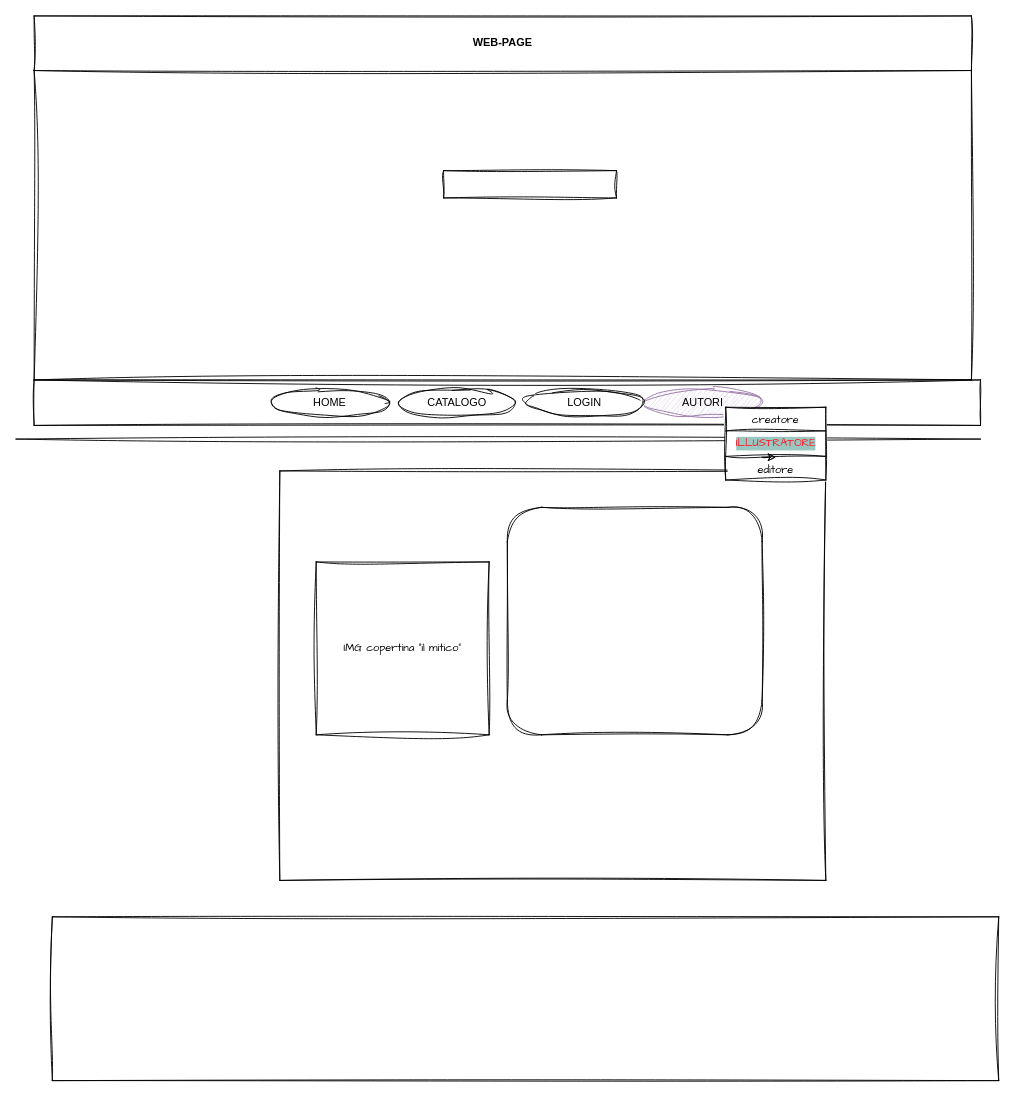
This 1015x1097 diagram has some shape labels left out. The shapes that lost their labels are listed below. From the top down, each one's centre as x and y in pixels, then its label:
At point (530, 184): "logo img".
At point (634, 620): "Larry ORTOLANI Biografia, e metodi di lavoro.".
At point (525, 998): "FOOTER".
